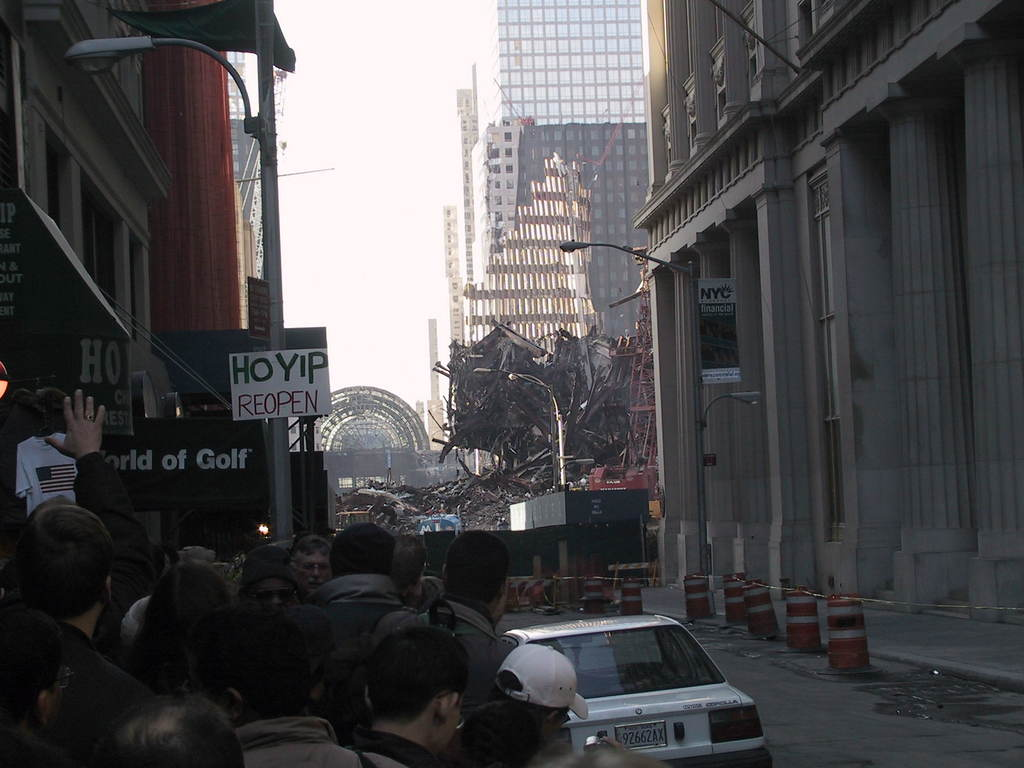cars: (502, 613, 769, 767)
